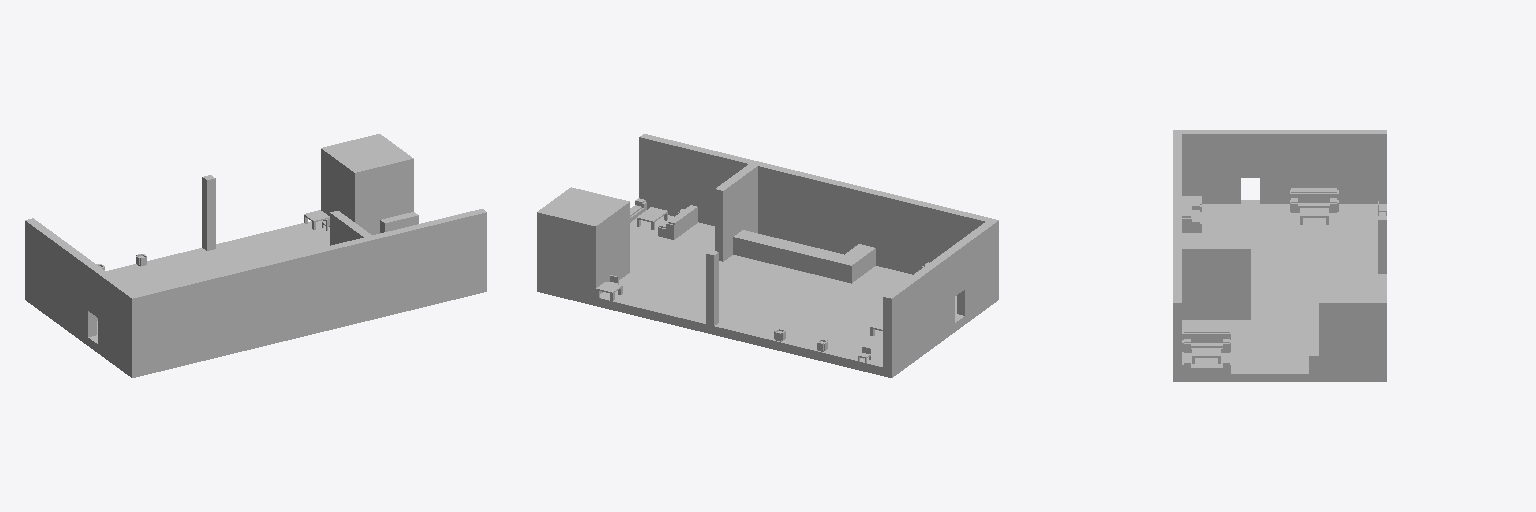
Rendered from unionD.obj.
3 renders of one model, left to right at view 1: azimuth 30°, elevation 25°; view 2: azimuth 150°, elevation 25°; view 3: azimuth 270°, elevation 25°, orthographic.
Parts seen in each view (by area): view 1: object 1; view 2: object 1; view 3: object 1.
Boxes of the visible parts, box(x1,y1,x2,y2) form: object 1: box(25, 134, 486, 377); object 1: box(537, 134, 998, 377); object 1: box(1173, 130, 1386, 381).
Size of the model in its own units: 25.2 by 5.4 by 13.2.